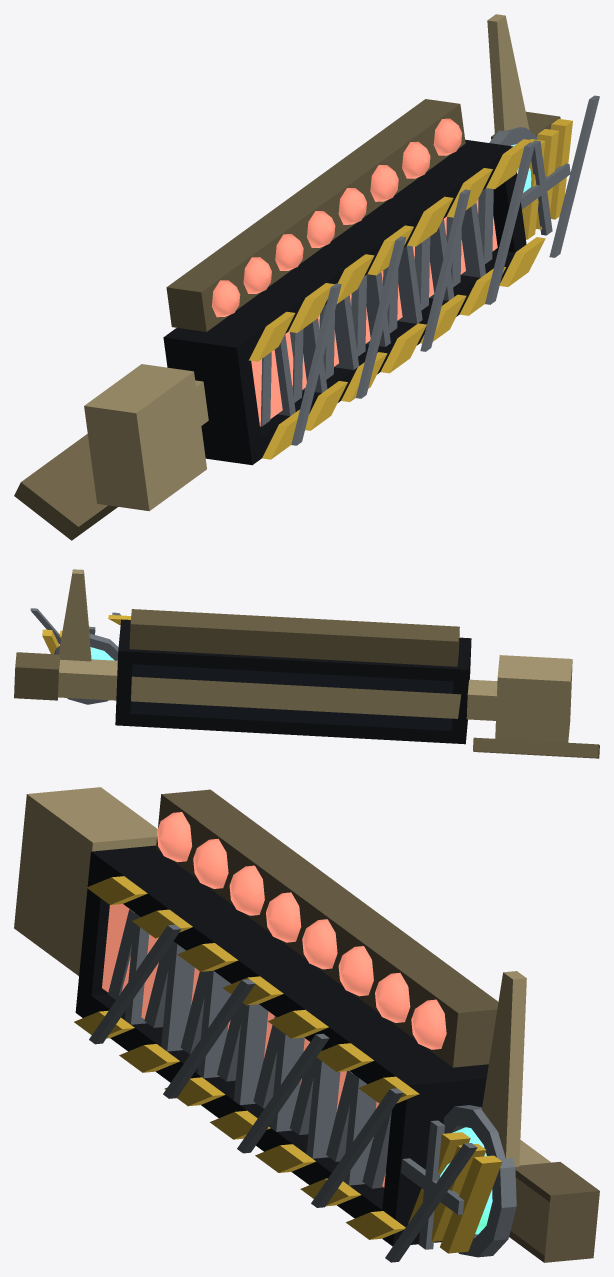
Rendered from mast.glb.
3 renders of one model, top to bottom at view 1: azimuth 30°, elevation 25°; view 2: azimuth 150°, elevation 25°; view 3: azimuth 270°, elevation 25°, orthographic. The views are drawn at different scales.
Visible parts, largest first — view 1: ota_mast_lampbar, ota_mast_collar, ota_mast_bezel_t, ota_mast_bezel_l, ota_mast_foot, ota_mast_vane, ota_mast_bezel_b, ota_mast_bezel_r, ota_mast_scrim_2, ota_mast_scrim_3, ota_mast_scrim_0, ota_mast_scrim_1 (+38 smaller); view 2: ota_mast_lampbar, ota_mast_rod, ota_mast_bore, ota_mast_collar, ota_mast_bezel_t, ota_mast_bezel_b, ota_mast_vane, ota_mast_knob, ota_mast_foot, ota_mast_bezel_r, ota_mast_bezel_l, ota_mast_capring (+2 smaller); view 3: ota_mast_lampbar, ota_mast_bezel_t, ota_mast_collar, ota_mast_bezel_r, ota_mast_bezel_b, ota_mast_vane, ota_mast_knob, ota_mast_capring, ota_mast_bezel_l, ota_mast_capstripe_2, ota_mast_grad_4, ota_mast_grad_2 (+46 smaller).
Boxes of the visible parts, box(x1,y1,x2,y2) form: ota_mast_lampbar: box(166, 99, 465, 331); ota_mast_collar: box(84, 364, 206, 511); ota_mast_bezel_t: box(163, 149, 501, 355); ota_mast_bezel_l: box(163, 329, 263, 464); ota_mast_foot: box(14, 434, 117, 540); ota_mast_vane: box(487, 14, 529, 134); ota_mast_bezel_b: box(204, 250, 514, 465); ota_mast_bezel_r: box(459, 139, 526, 253); ota_mast_scrim_2: box(420, 189, 470, 351); ota_mast_scrim_3: box(485, 142, 535, 304); ota_mast_scrim_0: box(291, 283, 341, 445); ota_mast_scrim_1: box(356, 236, 405, 398); ota_mast_lampbar: box(129, 609, 459, 666); ota_mast_rod: box(58, 659, 497, 720); ota_mast_bore: box(130, 664, 453, 730); ota_mast_collar: box(495, 655, 572, 742); ota_mast_bezel_t: box(118, 637, 470, 681); ota_mast_bezel_b: box(116, 714, 467, 744); ota_mast_vane: box(58, 569, 91, 661); ota_mast_knob: box(14, 652, 59, 700); ota_mast_foot: box(473, 737, 599, 758); ota_mast_bezel_r: box(115, 619, 132, 724); ota_mast_bezel_l: box(451, 638, 471, 743); ota_mast_capring: box(54, 633, 118, 704); ota_mast_lampbar: box(156, 789, 498, 1067); ota_mast_bezel_t: box(91, 851, 488, 1111); ota_mast_collar: box(14, 787, 157, 975); ota_mast_bezel_r: box(382, 1070, 487, 1246); ota_mast_bezel_b: box(89, 994, 441, 1245); ota_mast_vane: box(481, 971, 526, 1166); ota_mast_knob: box(509, 1162, 599, 1262); ota_mast_capring: box(443, 1105, 516, 1257); ota_mast_bezel_l: box(75, 845, 163, 1017); ota_mast_capstripe_2: box(440, 1155, 502, 1253); ota_mast_grad_4: box(233, 1003, 268, 1104); ota_mast_grad_2: box(161, 941, 194, 1051).
Bounding box in the file's own units: 0.2358 × 0.0808 × 0.1262.
